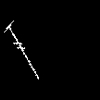treble_crochet: (6, 24, 38, 78)
